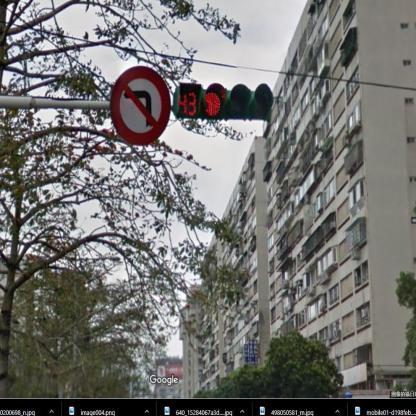Red Light: (174, 81, 272, 123)
